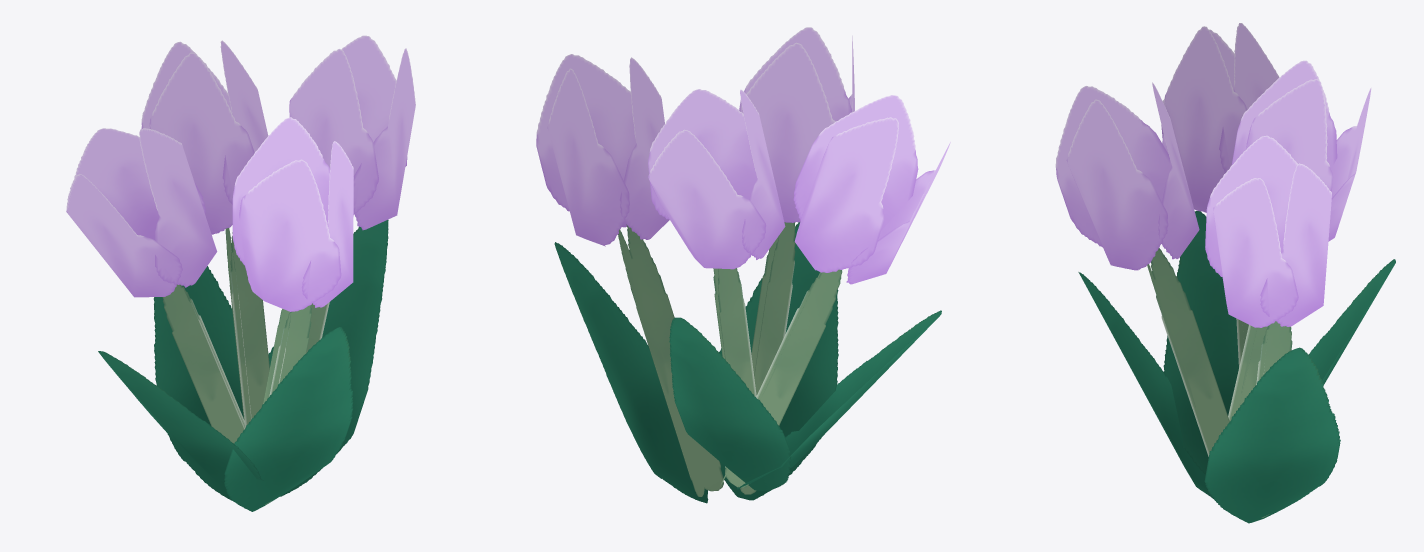
File: Tulip_p_Cluster.fbx
3 views of the same model, side by side, from view 1: azimuth 30°, elevation 25°; view 2: azimuth 150°, elevation 25°; view 3: azimuth 270°, elevation 25° (orthographic).
Parts seen in each view (by area): view 1: polySurface511; view 2: polySurface511; view 3: polySurface511.
Part boxes in pixels (<box>): polySurface511: <box>66,35,415,511</box>; polySurface511: <box>536,27,950,503</box>; polySurface511: <box>1055,23,1395,523</box>.
Bounding box in the file's own units: 0.3008 × 0.324 × 0.2443.
